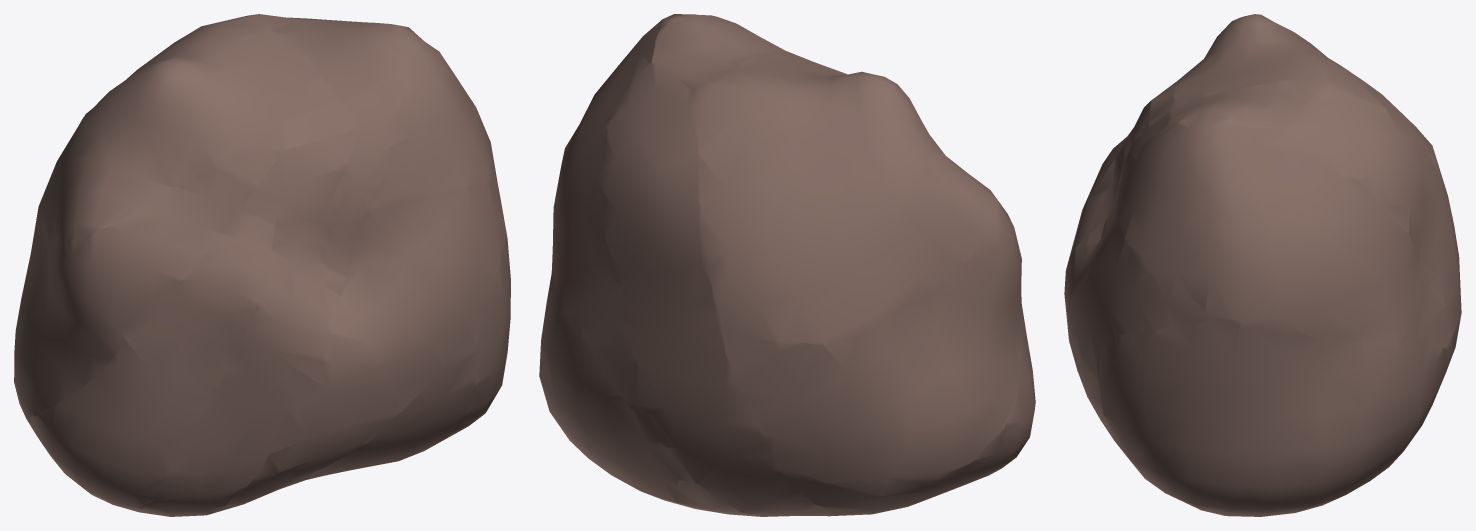
File: Crushed_2.fbx
The picture shows the model from 3 angles, left to right: view 1: azimuth 30°, elevation 25°; view 2: azimuth 150°, elevation 25°; view 3: azimuth 270°, elevation 25°; orthographic projection. The views are drawn at different scales.
Parts seen in each view (by area): view 1: shard9, shard3, shard5, shard8, shard15, shard4, shard12, shard10, shard6, shard13, shard7, shard1; view 2: shard3, shard8, shard14, shard4, shard7, shard5, shard6, shard1, shard13, shard2; view 3: shard7, shard4, shard14, shard9, shard3, shard6, shard15, shard1, shard12, shard13, shard10.
Part boxes in pixels (box(x1,y1,x2,y2)): shard9: box(270, 175, 505, 475); shard3: box(37, 15, 332, 241); shard5: box(26, 216, 275, 508); shard8: box(14, 112, 306, 418); shard15: box(127, 219, 334, 516); shard4: box(373, 25, 496, 202); shard12: box(323, 76, 406, 339); shard10: box(235, 95, 347, 222); shard6: box(242, 14, 409, 107); shard13: box(260, 321, 475, 497); shard7: box(446, 229, 510, 438); shard1: box(211, 451, 310, 513); shard3: box(698, 51, 1002, 346); shard8: box(717, 182, 1022, 496); shard14: box(602, 62, 821, 508); shard4: box(551, 14, 711, 356); shard7: box(539, 246, 681, 505); shard5: box(779, 303, 1035, 514); shard6: box(643, 14, 789, 101); shard1: box(585, 337, 665, 446); shard13: box(675, 463, 778, 516); shard2: box(735, 507, 841, 516); shard7: box(1097, 318, 1451, 516); shard4: box(1117, 118, 1441, 343); shard14: box(1278, 87, 1461, 356); shard9: box(1064, 186, 1224, 369); shard3: box(1168, 14, 1450, 207); shard6: box(1167, 79, 1342, 141); shard15: box(1069, 143, 1126, 258); shard1: box(1417, 302, 1453, 356); shard12: box(1074, 111, 1169, 250); shard13: box(1077, 349, 1130, 461); shard10: box(1125, 98, 1181, 158).
Bounding box in the file's own units: 13.66 × 12.38 × 11.38.
